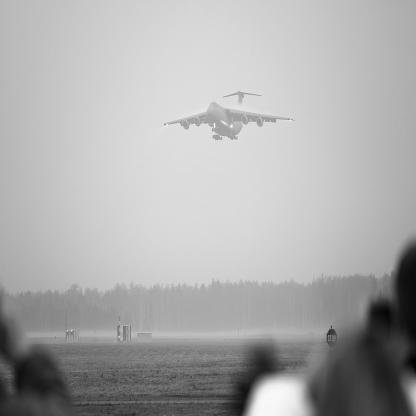C5: (165, 91, 297, 142)
